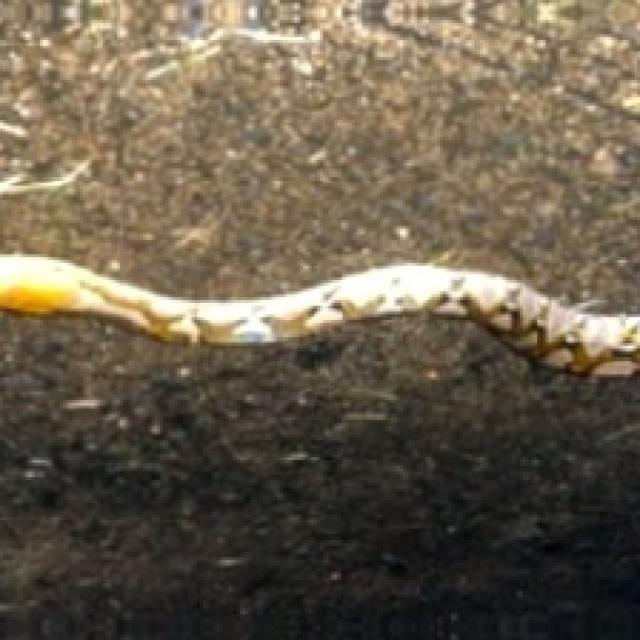reticulated python: (0, 254, 637, 374)
